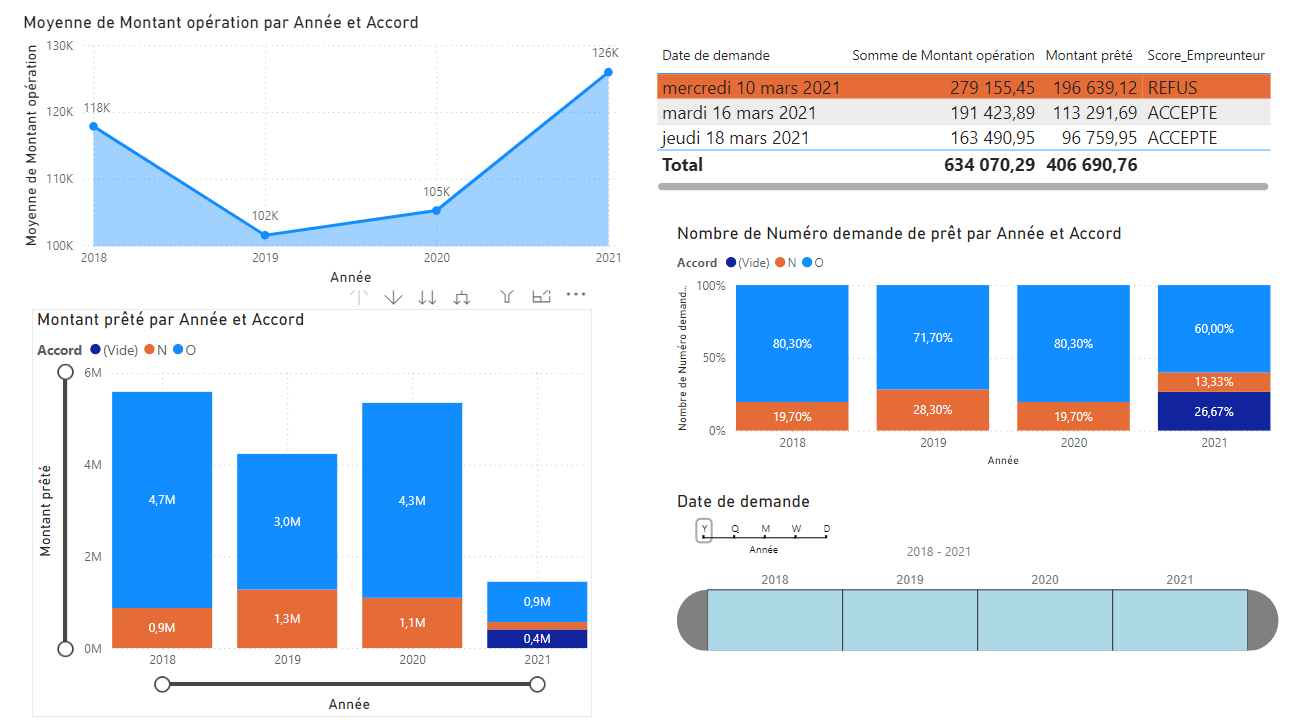

What the dashboard file says about the page in this screenshot:
{"tool":"powerbi","page":{"name":"Page 1","canvas":[1280,720],"ordinal":1},"visuals":[{"type":"columnChart","fields":{"Category":["Demandes de pret.Date de demande.Variation.Hiérarchie de dates.Année","Demandes de pret.Date de demande.Variation.Hiérarchie de dates.Trimestre","Demandes de pret.Date de demande.Variation.Hiérarchie de dates.Mois","Demandes de pret.Date de demande.Variation.Hiérarchie de dates.Jour"],"Series":["Demandes de pret.Accord"],"Y":["Demandes de pret.Montant prêté"]},"box":[34.2,308.2,547.8,398.6],"z":0},{"type":"Timeline1447991079100","fields":{"Time":["Demandes de pret.Date de demande"]},"box":[660.3,485.5,600.4,221.3],"z":2000},{"type":"lineChart","fields":{"Category":["Demandes de pret.Date de demande.Variation.Hiérarchie de dates.Année","Demandes de pret.Date de demande.Variation.Hiérarchie de dates.Trimestre","Demandes de pret.Date de demande.Variation.Hiérarchie de dates.Mois","Demandes de pret.Date de demande.Variation.Hiérarchie de dates.Jour"],"Y":["Avg(Demandes de pret.Montant opération)"],"Series":["Demandes de pret.Accord"]},"box":[20.8,17.1,595.5,272.7],"z":3000},{"type":"hundredPercentStackedColumnChart","fields":{"Category":["Demandes de pret.Date de demande.Variation.Hiérarchie de dates.Année","Demandes de pret.Date de demande.Variation.Hiérarchie de dates.Trimestre","Demandes de pret.Date de demande.Variation.Hiérarchie de dates.Mois","Demandes de pret.Date de demande.Variation.Hiérarchie de dates.Jour"],"Y":["CountNonNull(Demandes de pret.Numéro demande de prêt)"],"Series":["Demandes de pret.Accord"]},"box":[660.3,223.8,590.6,243.3],"z":4000},{"type":"tableEx","fields":{"Values":["Demandes de pret.Date de demande","Sum(Demandes de pret.Montant opération)","Demandes de pret.Montant prêté","Demandes de pret.Score_Empreunteur"]},"box":[639.5,44,611.4,154.1],"z":5000}]}

Visuals, with their boxes in screenshot pixels (x1, y1, x2, y2), scaled from the page's 1280x720 canvas onto the 1302x722 screenshot:
columnChart - Demandes de pret.Date de demande.Variation.Hiérarchie de dates.Année x Demandes de pret.Date de demande.Variation.Hiérarchie de dates.Trimestre: [left=35, top=309, right=592, bottom=709]
Timeline1447991079100 - Demandes de pret.Date de demande: [left=672, top=487, right=1282, bottom=709]
lineChart - Demandes de pret.Date de demande.Variation.Hiérarchie de dates.Année x Demandes de pret.Date de demande.Variation.Hiérarchie de dates.Trimestre: [left=21, top=17, right=627, bottom=291]
hundredPercentStackedColumnChart - Demandes de pret.Date de demande.Variation.Hiérarchie de dates.Année x Demandes de pret.Date de demande.Variation.Hiérarchie de dates.Trimestre: [left=672, top=224, right=1272, bottom=468]
tableEx - Demandes de pret.Date de demande x Sum(Demandes de pret.Montant opération): [left=650, top=44, right=1272, bottom=199]
